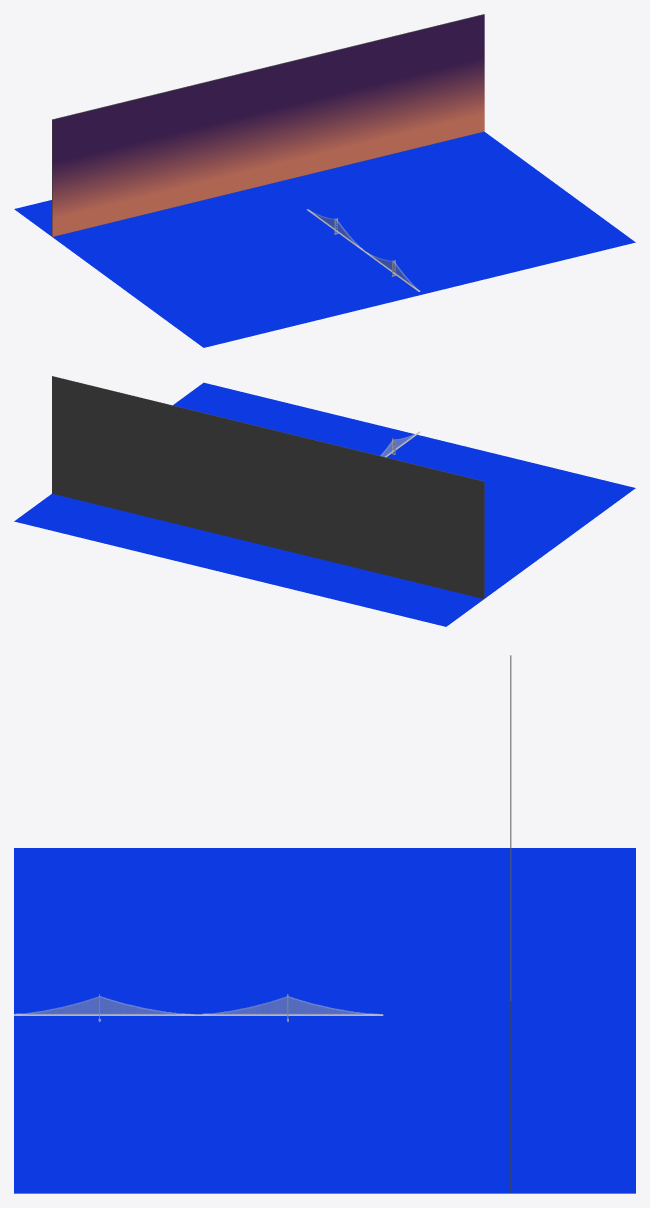
File: asset.glb
3 renders of one model, top to bottom at view 1: azimuth 30°, elevation 25°; view 2: azimuth 150°, elevation 25°; view 3: azimuth 270°, elevation 25°, orthographic. The views are drawn at different scales.
Parts seen in each view (by area): view 1: umi, 立方体, turibasi; view 2: 立方体, umi; view 3: umi, turibasi, 立方体, michi.
Boxes of the visible parts, x1,y1,x2,y2 form: umi: [14, 131, 635, 347]; 立方体: [52, 14, 484, 236]; turibasi: [307, 209, 419, 291]; 立方体: [52, 376, 484, 598]; umi: [14, 382, 635, 626]; umi: [14, 848, 635, 1193]; turibasi: [14, 996, 382, 1015]; 立方体: [510, 655, 511, 1193]; michi: [14, 1014, 383, 1015].
Size of the model in its own units: 0.8 by 0.2077 by 0.6082.
Materials: 4 (2 with a texture image).
